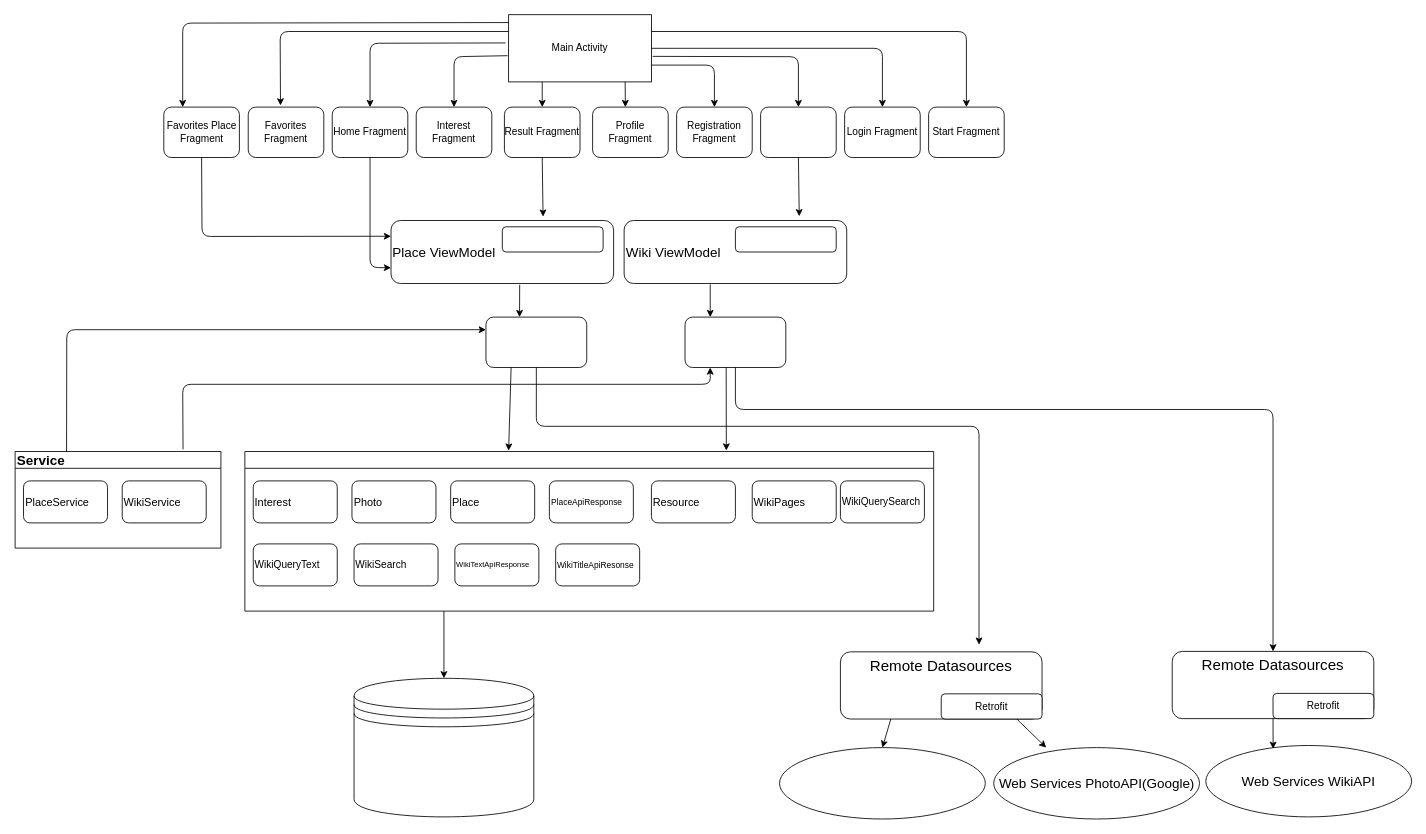
The diagram is 1426 pixels wide and 834 high, and some of its shapes have lost their labels. Each missing label, with the box of its shape:
FireBase: (353, 677, 534, 817)
Model: (244, 451, 934, 611)
MutableLiveData places: (501, 226, 603, 252)
MutableLiveData textResponse: (735, 226, 836, 252)
Place Repository: (485, 316, 587, 368)
ResultDetails Fragment: (760, 106, 836, 158)
Web Services PlacesAPI(Google): (779, 747, 985, 819)
Wiki Repository: (684, 316, 786, 368)
